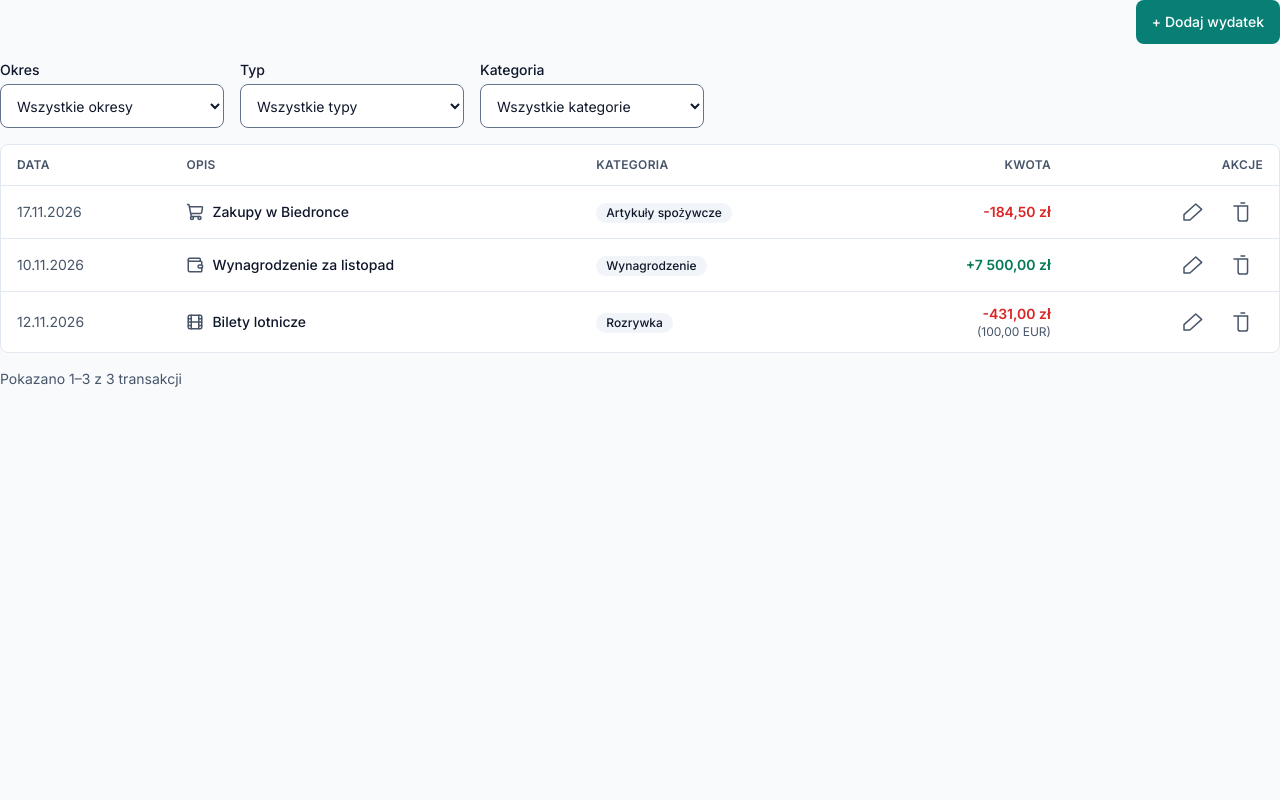
Scenario: TransactionsView › deleting a transaction › sends nothing and returns the focus to the trash button on Anuluj
What coordinates should you click on to do the following:
click the button named "Usuń transakcję: Zakupy w Biedronce, 17.11.2026"
I would click on:
 (1241, 212)
Its box is [1219,190,1263,234].
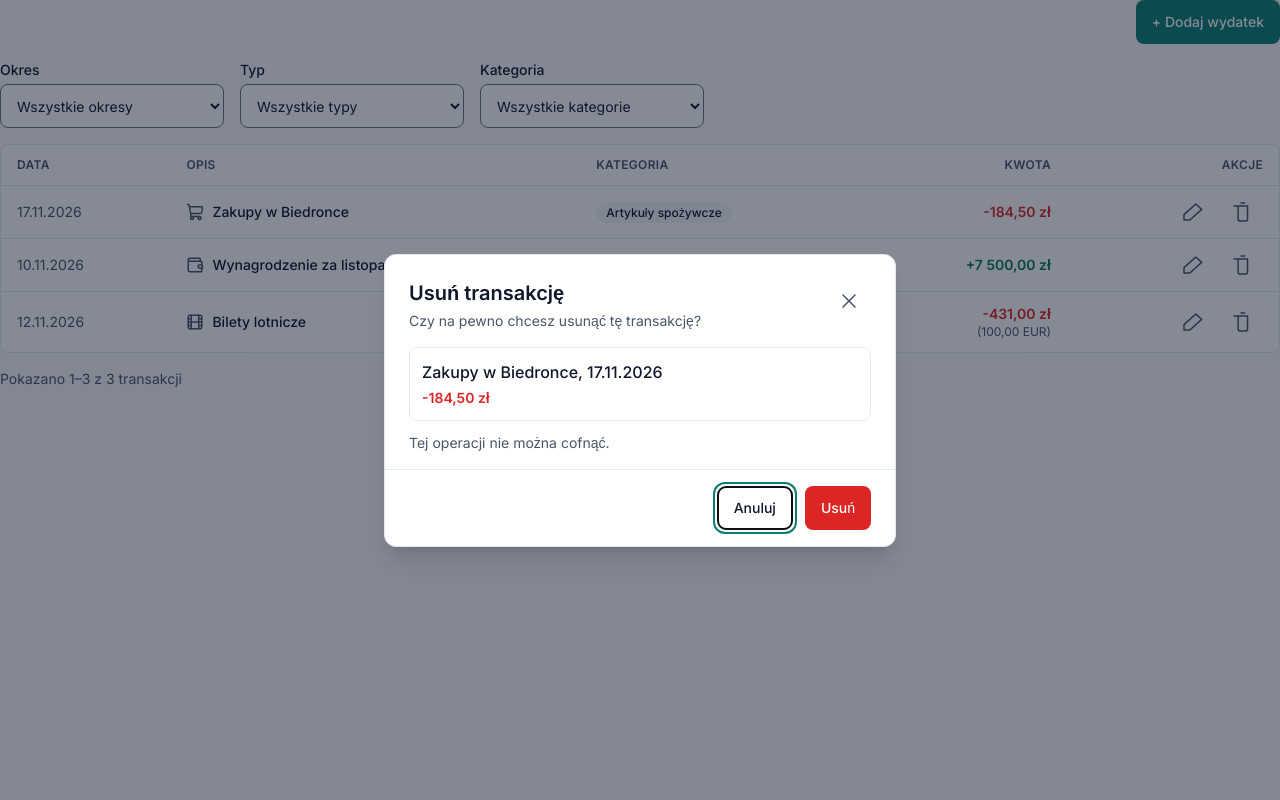
What coordinates should you click on to do the following:
click the button "Anuluj"
I would click on:
 (755, 508)
Its box is [717,486,793,530].
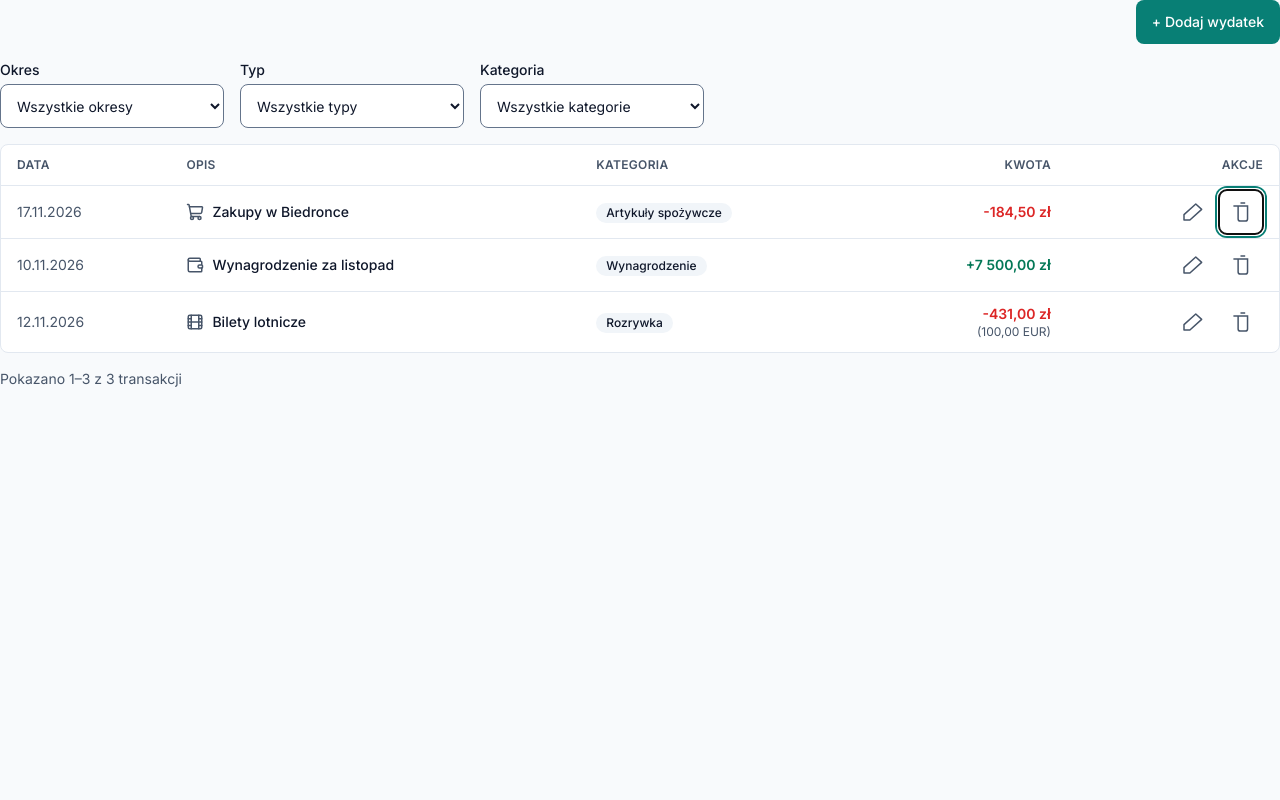
expect the dialog is gone: met
